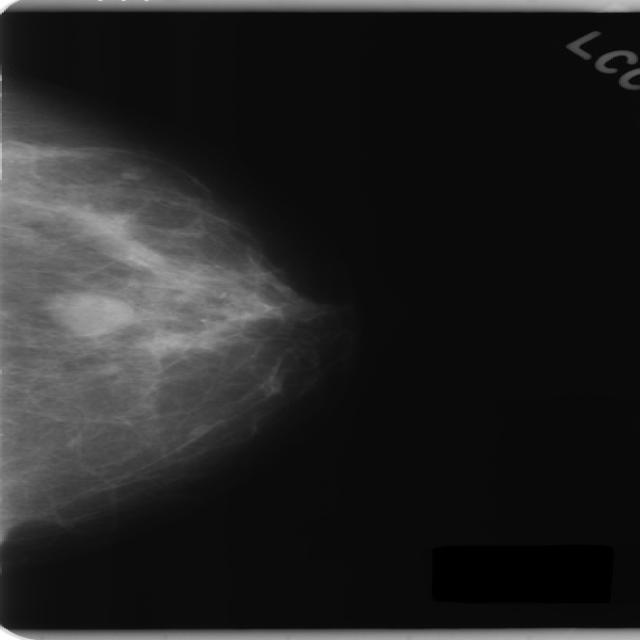tumour: (40, 290, 135, 335)
